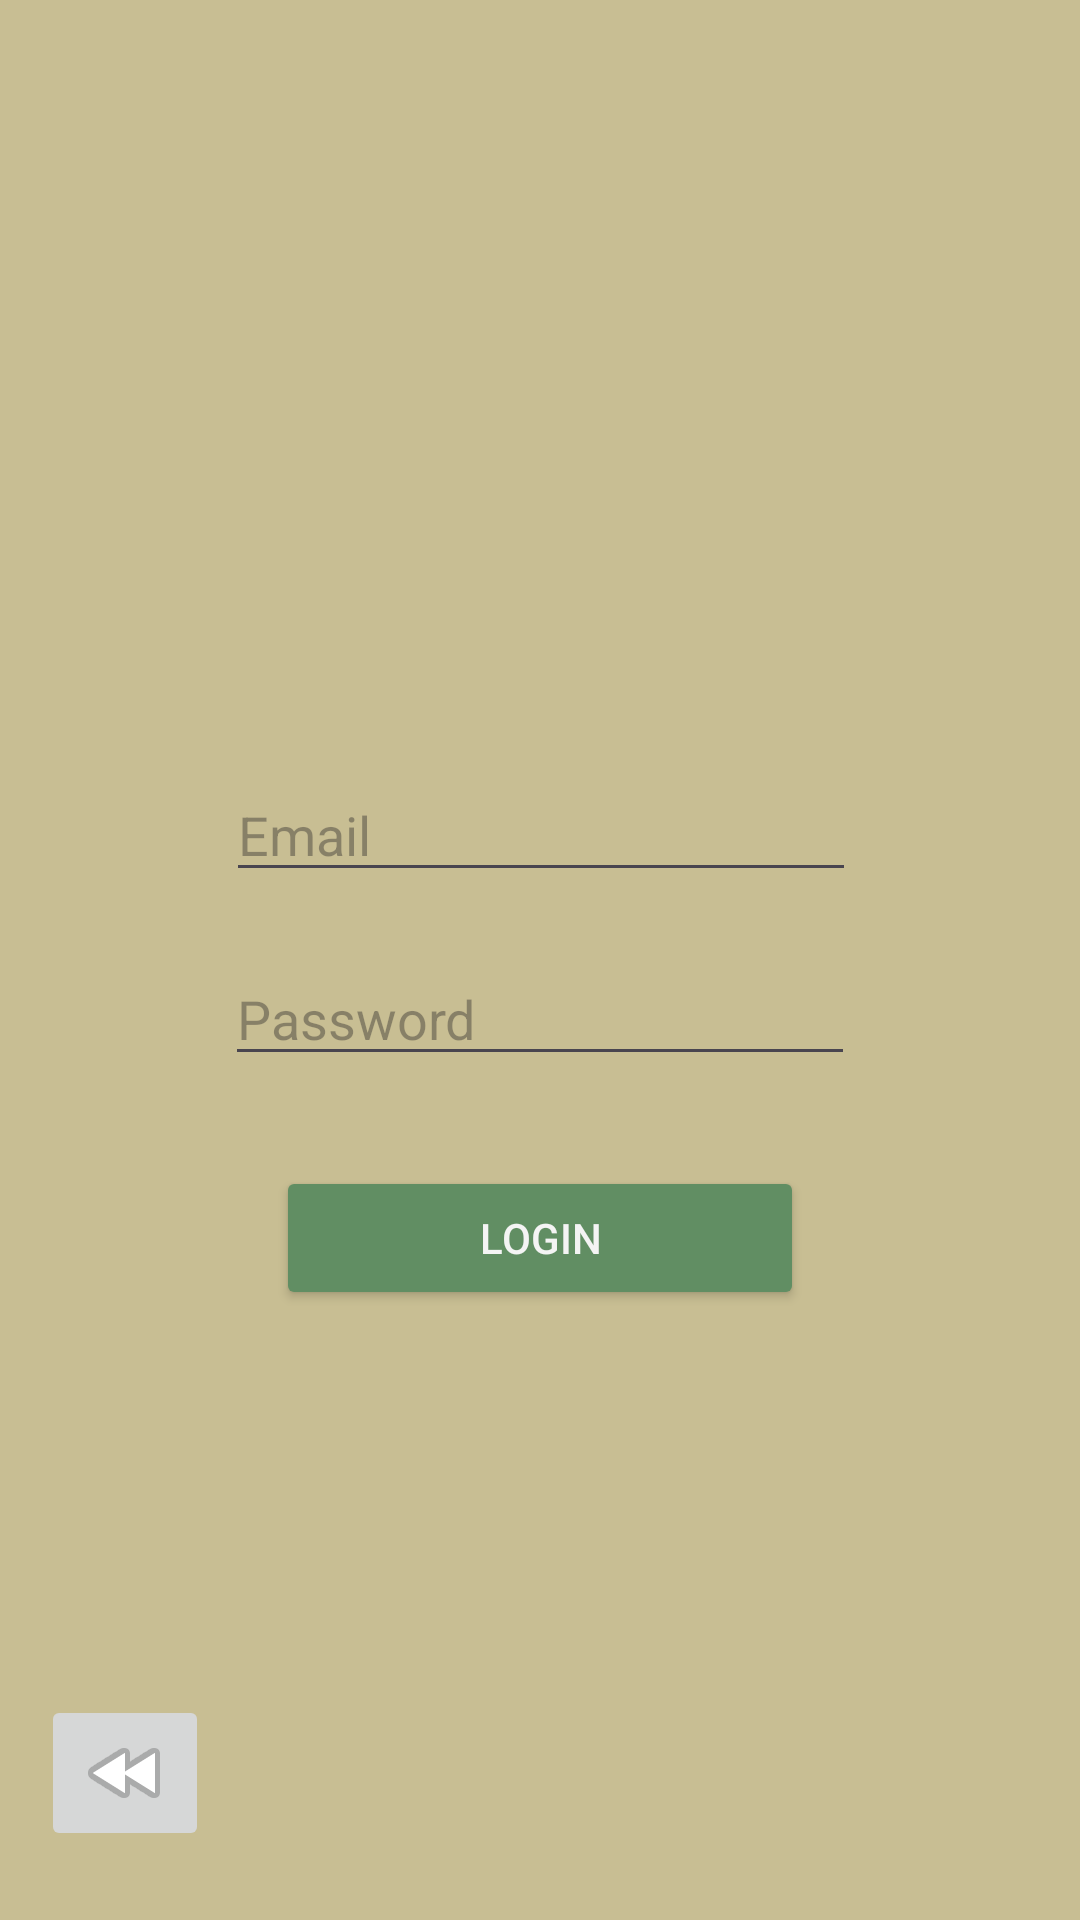

Where icons sit on this 1080x1920 app screen, as (x1, y1, x2, y2):
rew: (53, 1713, 197, 1833)
